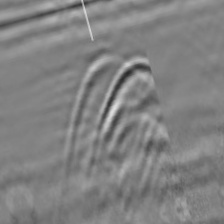Utility: (67, 50, 164, 164)
